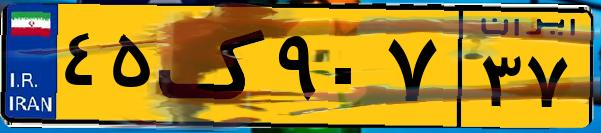0: (330, 28, 385, 110)
3: (475, 38, 525, 113)
4: (57, 26, 110, 100)
5: (110, 28, 158, 98)
7: (385, 28, 445, 110), (525, 38, 570, 115)
9: (270, 28, 330, 110)
ک: (158, 12, 270, 120)
